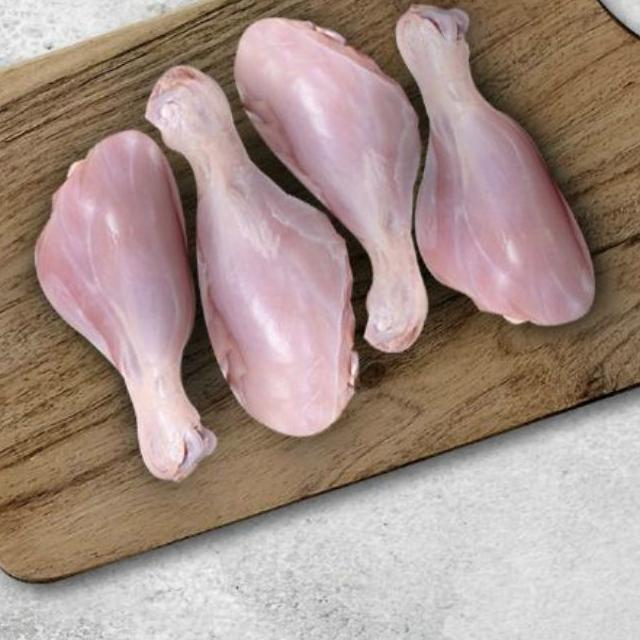chicken: (144, 62, 354, 439), (30, 128, 220, 484), (394, 0, 597, 328), (232, 14, 427, 354)
